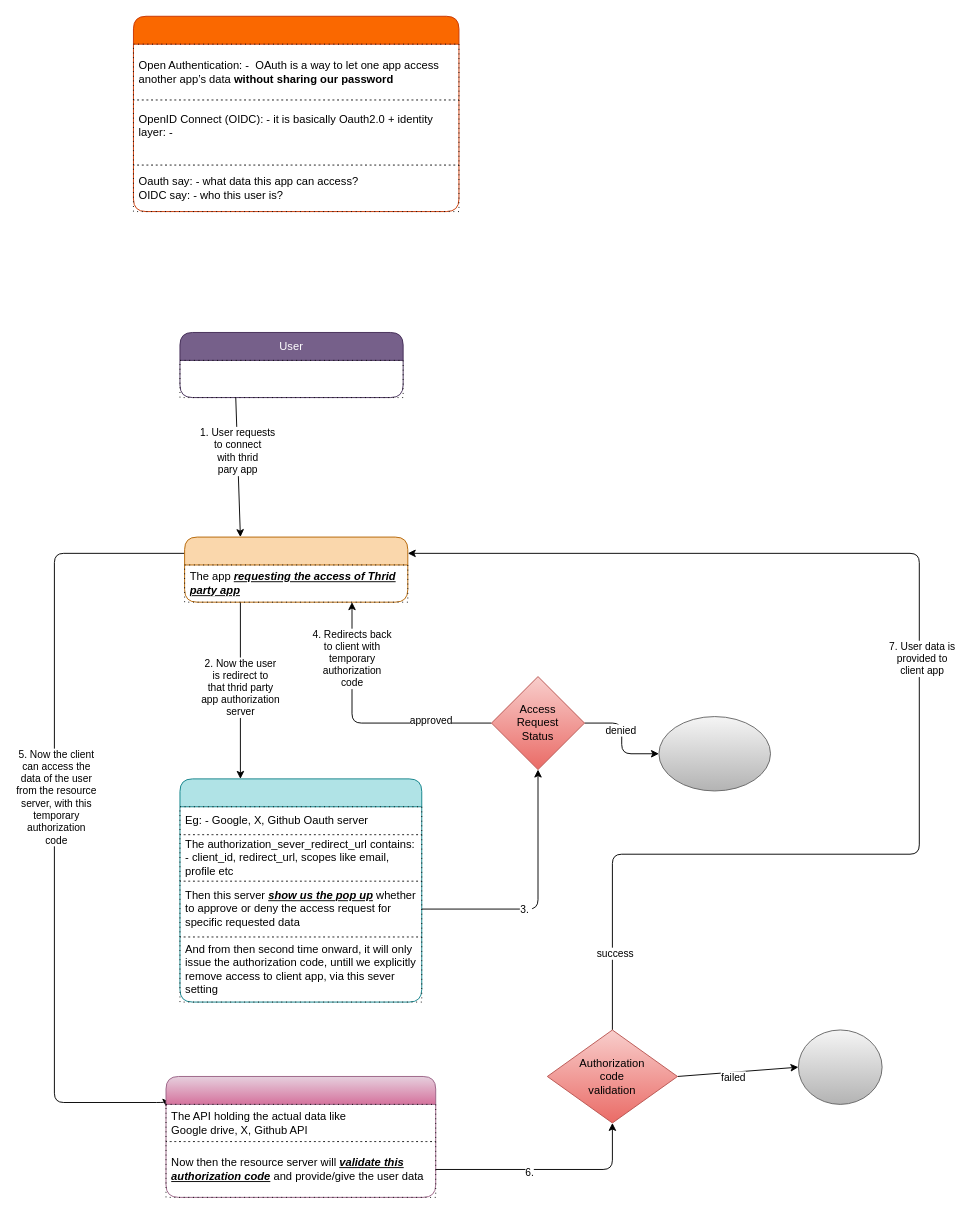
The diagram is 971 pixels wide and 1214 high, and some of its shapes have lost their labels. Each missing label, with the box of its shape:
4. Access not Granted: (658, 716, 771, 791)
7. Data not provided: (797, 1029, 882, 1104)
Authorization Server: (179, 778, 422, 1002)
Client App: (184, 536, 408, 602)
Oauth and OIDC: (133, 15, 459, 212)
Recourse Server: (165, 1076, 436, 1197)
User is the Resource owner : - User has google or github accout, with their data: (179, 359, 403, 398)
